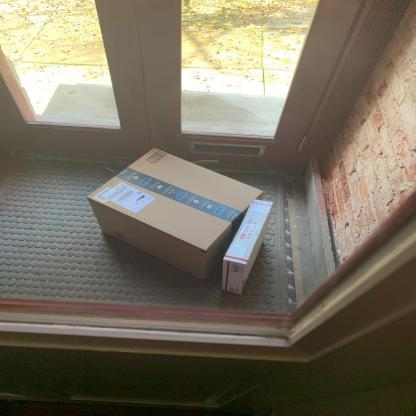package: (87, 147, 263, 284), (221, 199, 276, 296)
